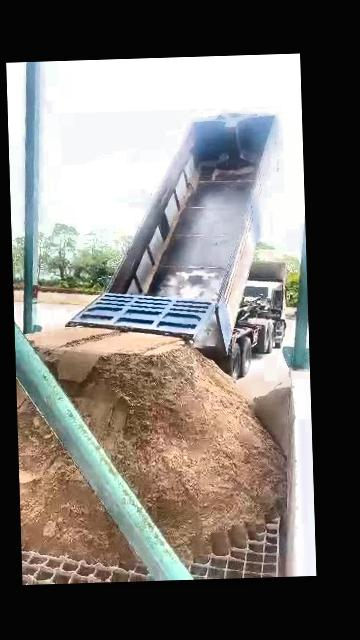sand: (32, 329, 284, 558), (17, 388, 134, 564), (253, 377, 293, 457)
